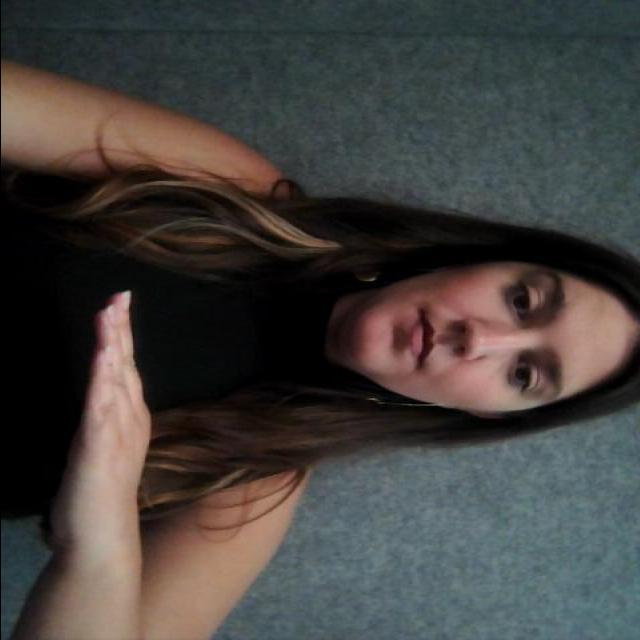Paper: (18, 282, 188, 555)
